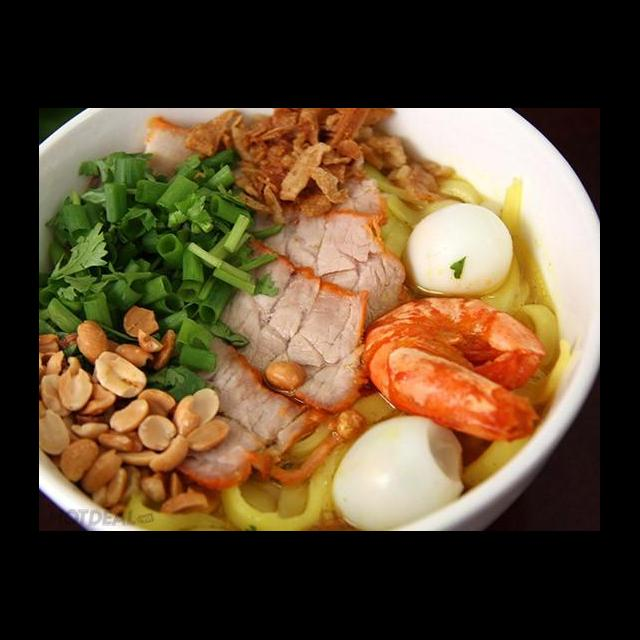mi: (120, 392, 400, 532), (472, 254, 572, 411), (352, 156, 482, 264)
thit heo: (185, 225, 378, 418), (136, 322, 337, 490), (234, 204, 411, 344), (230, 170, 390, 238), (132, 114, 218, 192)
tom: (353, 292, 550, 444)
trung: (326, 412, 468, 532), (398, 200, 516, 304)
